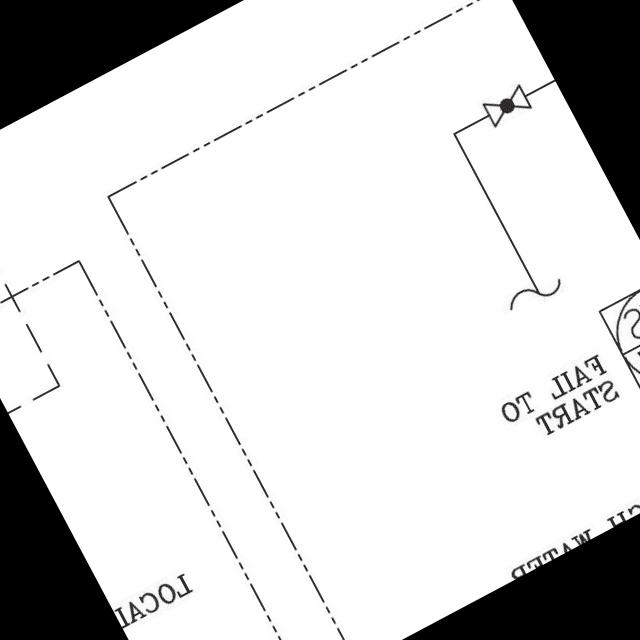BV2: (475, 77, 536, 131)
